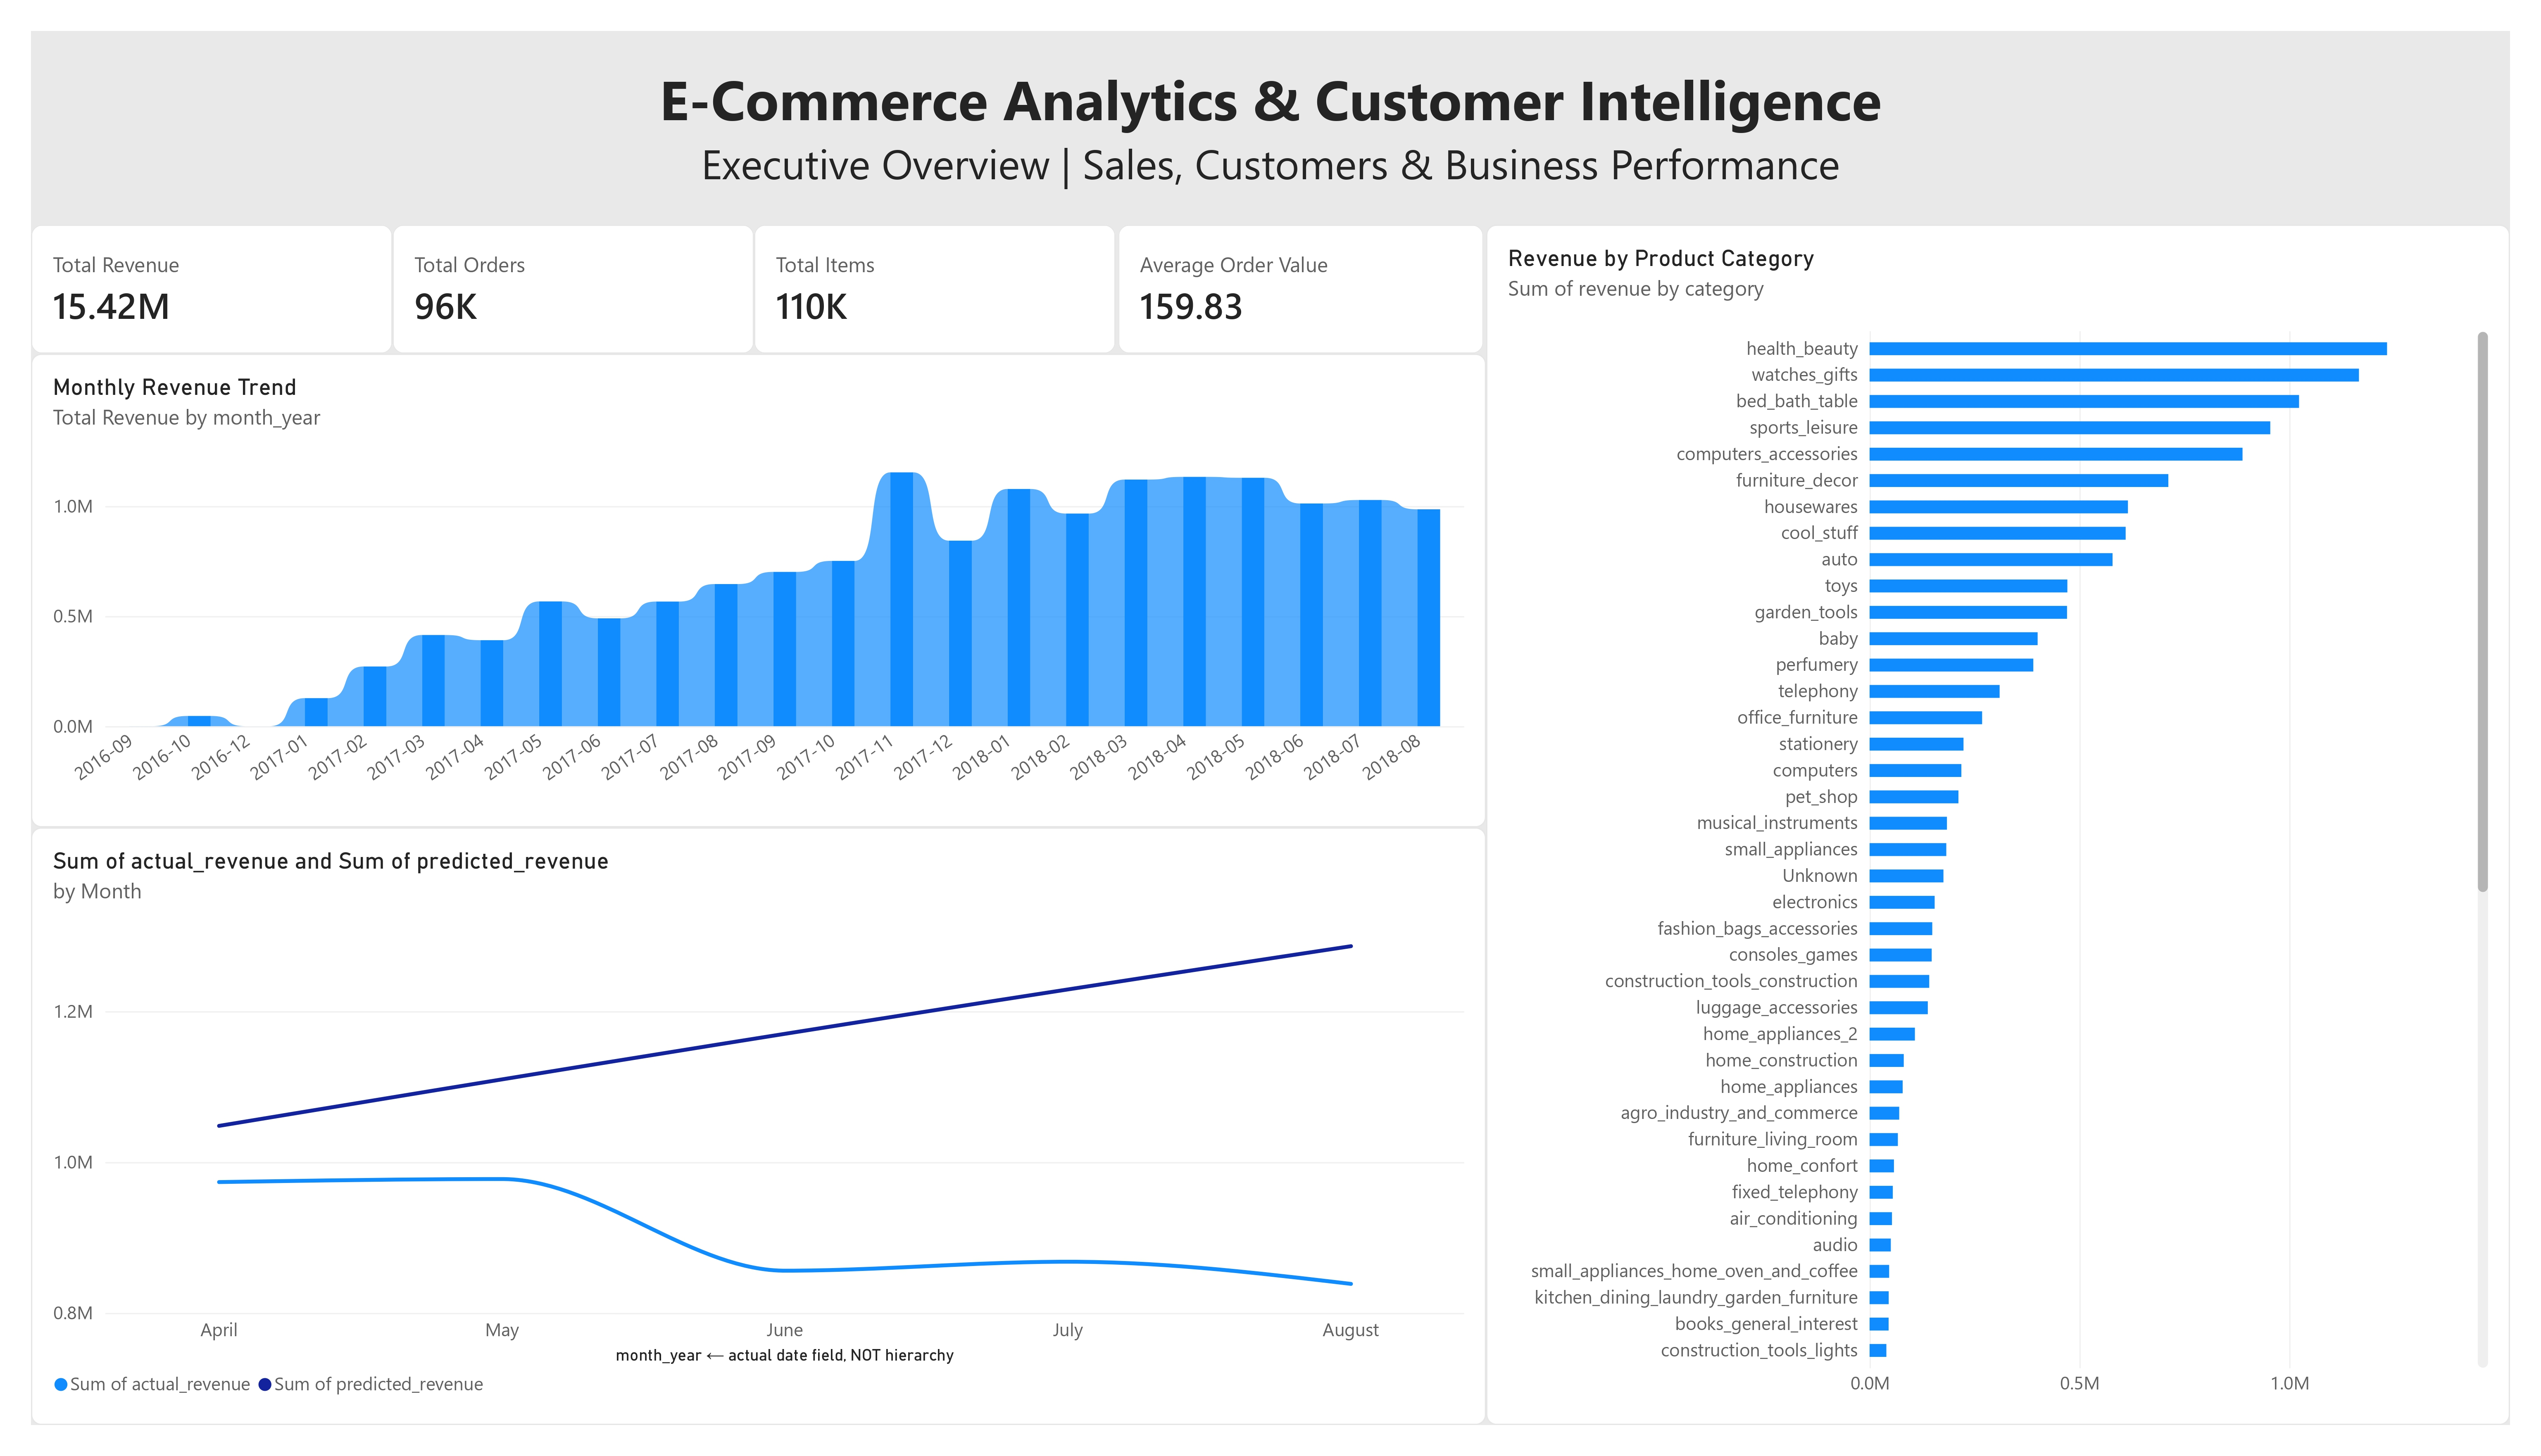

This screenshot's page, from the dashboard's own definition file:
{"tool":"powerbi","page":{"name":"Executive Overview","canvas":[1920,1080],"ordinal":0},"visuals":[{"type":"cardVisual","fields":{"Data":["analytics pbi_monthly_performance.Total Revenue"]},"box":[0,150,280,100],"z":0},{"type":"cardVisual","fields":{"Data":["analytics pbi_monthly_performance.Total Orders"]},"box":[280,150,280,100],"z":1000},{"type":"cardVisual","fields":{"Data":["analytics pbi_monthly_performance.Total Items"]},"box":[560,150,280,100],"z":2000},{"type":"cardVisual","fields":{"Data":["analytics pbi_monthly_performance.Average Order Value"]},"box":[841.7,150,283.3,100],"z":3000},{"type":"ribbonChart","title":"Monthly Revenue Trend","fields":{"Category":["analytics pbi_monthly_performance.month_year"],"Y":["analytics pbi_monthly_performance.Total Revenue"]},"box":[0,250,1126.7,366.7],"z":4000},{"type":"barChart","title":"Revenue by Product Category","fields":{"Category":["analytics pbi_category_performance.category"],"Y":["Sum(analytics pbi_category_performance.revenue)"]},"box":[1126.7,150,793.3,930],"z":5000},{"type":"lineChart","fields":{"Category":["analytics pbi_revenue_forecast.month_year.Variation.Date Hierarchy.Month"],"Y":["Sum(analytics pbi_revenue_forecast.actual_revenue)","Sum(analytics pbi_revenue_forecast.predicted_revenue)"]},"box":[0,616.7,1126.7,463.3],"z":7000},{"type":"textbox","box":[100,100,300,300],"z":8000},{"type":"textbox","box":[0,23.3,1920,126.7],"z":9000}]}

Visuals, with their boxes on the page's 1920x1080 design canvas (x1, y1, x2, y2). These are canvas units, not pixel positions in the 2541x1456 screenshot, which may show the page scaled, cropped or inside an application window:
cardVisual - analytics pbi_monthly_performance.Total Revenue: left=0, top=150, right=280, bottom=250
cardVisual - analytics pbi_monthly_performance.Total Orders: left=280, top=150, right=560, bottom=250
cardVisual - analytics pbi_monthly_performance.Total Items: left=560, top=150, right=840, bottom=250
cardVisual - analytics pbi_monthly_performance.Average Order Value: left=842, top=150, right=1125, bottom=250
"Monthly Revenue Trend" ribbonChart: left=0, top=250, right=1127, bottom=617
"Revenue by Product Category" barChart: left=1127, top=150, right=1920, bottom=1080
lineChart - analytics pbi_revenue_forecast.month_year.Variation.Date Hierarchy.Month x Sum(analytics pbi_revenue_forecast.actual_revenue): left=0, top=617, right=1127, bottom=1080
textbox: left=100, top=100, right=400, bottom=400
textbox: left=0, top=23, right=1920, bottom=150
